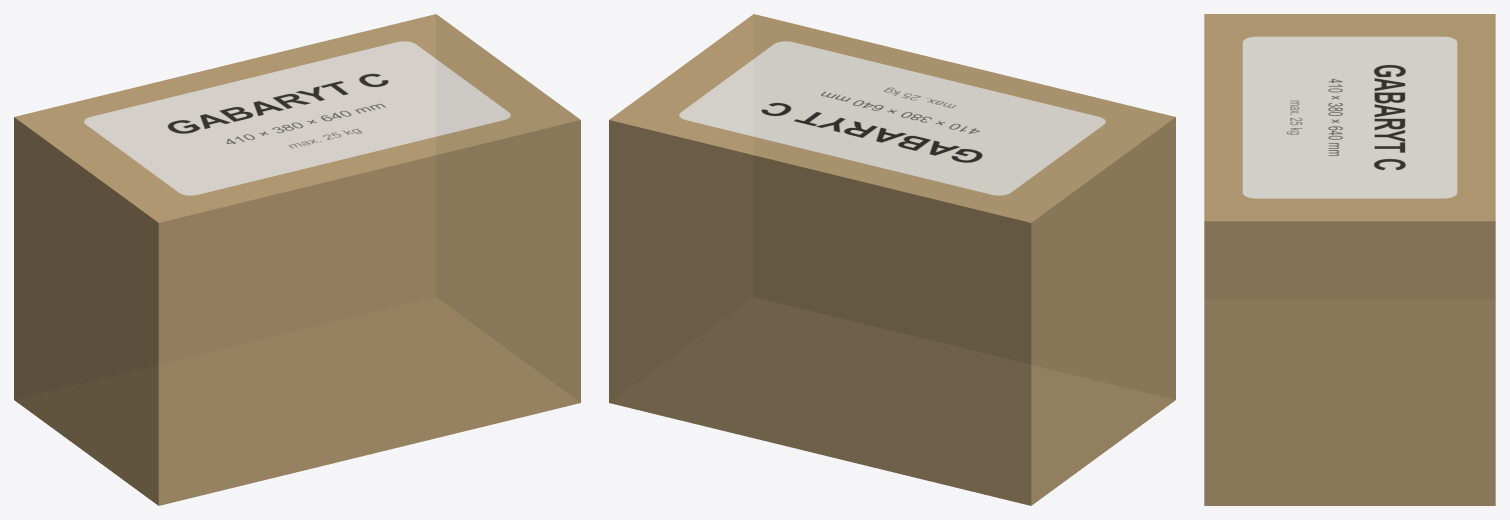
Rendered from gabaryt-c.glb.
The picture shows the model from 3 angles, left to right: view 1: azimuth 30°, elevation 25°; view 2: azimuth 150°, elevation 25°; view 3: azimuth 270°, elevation 25°; orthographic projection.
Parts seen in each view (by area): view 1: gabaryt-c; view 2: gabaryt-c; view 3: gabaryt-c.
Part boxes in pixels (<box>): gabaryt-c: <box>14,14,580,505</box>; gabaryt-c: <box>609,14,1175,505</box>; gabaryt-c: <box>1204,14,1495,505</box>.
Bounding box in the file's own units: 0.64 × 0.41 × 0.38.
1 material, 1 textured.
